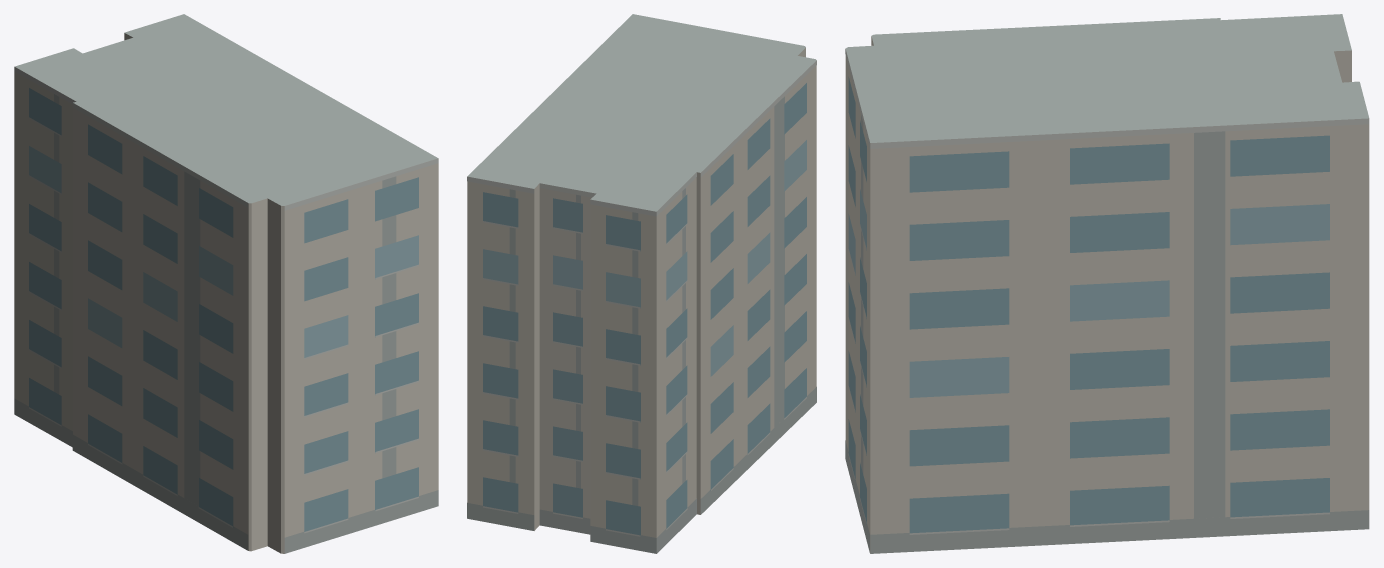
Rendered from survey-upis-32701355.glb.
The picture shows the model from 3 angles, left to right: view 1: azimuth 30°, elevation 25°; view 2: azimuth 150°, elevation 25°; view 3: azimuth 270°, elevation 25°; orthographic projection. The views are drawn at different scales.
Parts seen in each view (by area): view 1: survey-upis-32701355.tmp; view 2: survey-upis-32701355.tmp; view 3: survey-upis-32701355.tmp.
Part boxes in pixels (bbox=[...]): survey-upis-32701355.tmp: bbox=[14, 14, 438, 553]; survey-upis-32701355.tmp: bbox=[467, 14, 816, 553]; survey-upis-32701355.tmp: bbox=[845, 14, 1369, 553].
Size of the model in its own units: 11.67 by 17.3 by 20.01.
